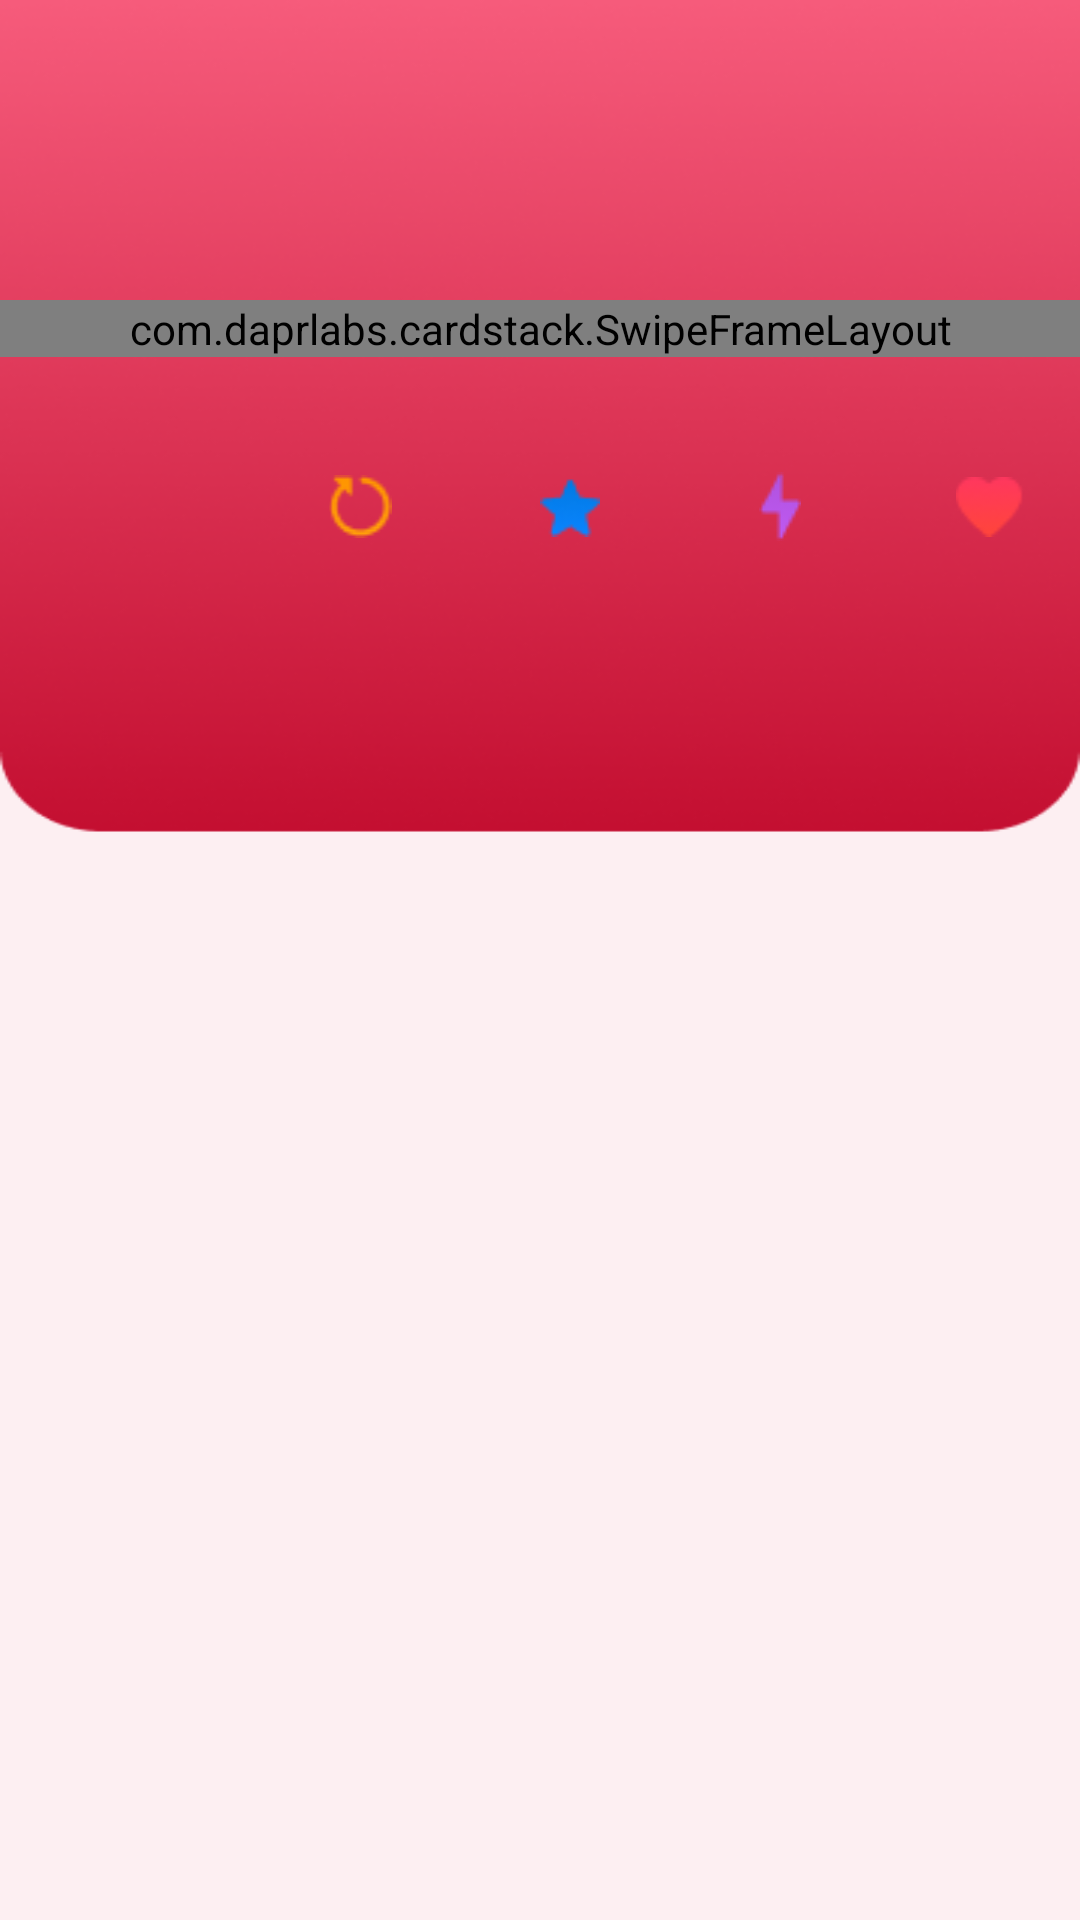

Icons on this 1080 × 1920 Android screen, each with its box as (x1, y1, x2, y2):
fav: (956, 477, 1021, 537)
retry: (330, 475, 392, 538)
star: (540, 479, 600, 537)
